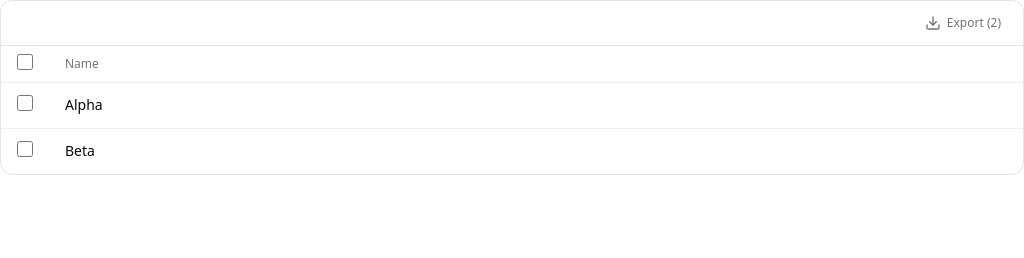
it: DataTable — unit › Row Selection › shows bulk action bar with count when rows are selected and bulkActions provided
Step 1. Click the checkbox named "select all" → (25, 62), box [17,54,33,70]
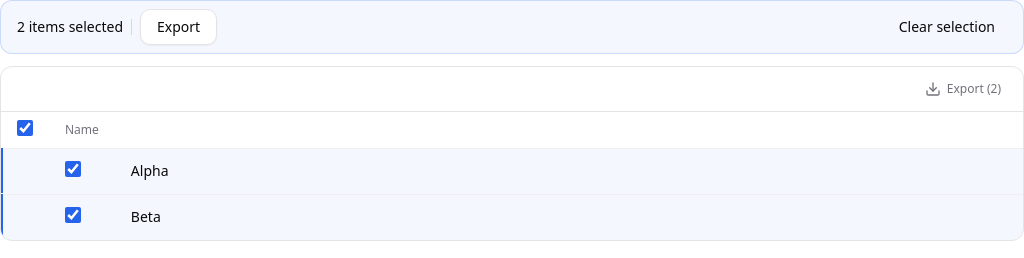
expect the text "2 items selected" is shown: met, box [17,17,123,37]
